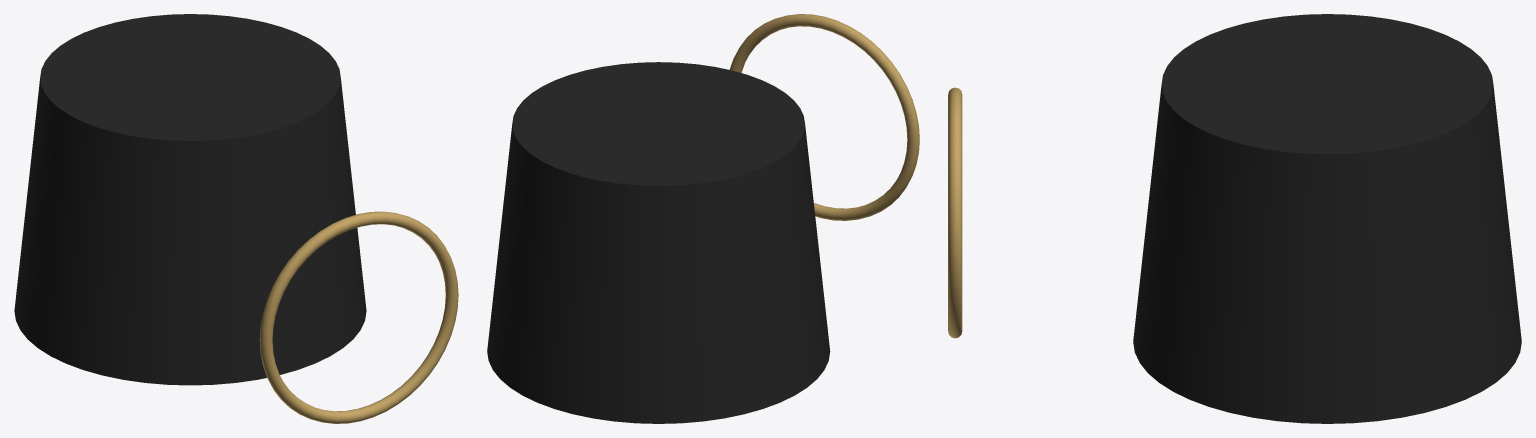
Rendered from speaker.glb.
3 renders of one model, left to right at view 1: azimuth 30°, elevation 25°; view 2: azimuth 150°, elevation 25°; view 3: azimuth 270°, elevation 25°, orthographic. The views are drawn at different scales.
Size of the model in its own units: 1.64 by 1.2 by 2.42.
